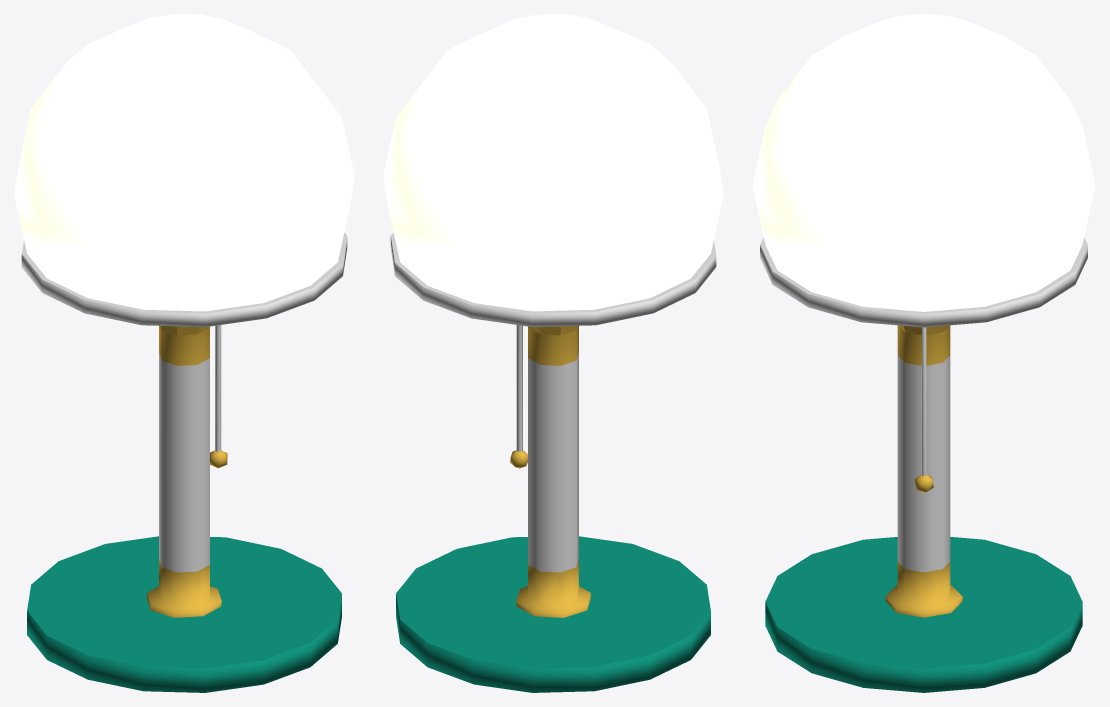
Rendered from lamparaA.fbx.
The picture shows the model from 3 angles, left to right: view 1: azimuth 30°, elevation 25°; view 2: azimuth 150°, elevation 25°; view 3: azimuth 270°, elevation 25°; orthographic projection.
Visible parts, largest first — view 1: LamparaA; view 2: LamparaA; view 3: LamparaA.
Part boxes in pixels (x1,y1,x2,y2): LamparaA: (14,14,354,692); LamparaA: (383,14,723,692); LamparaA: (752,14,1095,692).
Size of the model in its own units: 25.83 by 49.33 by 25.83.
